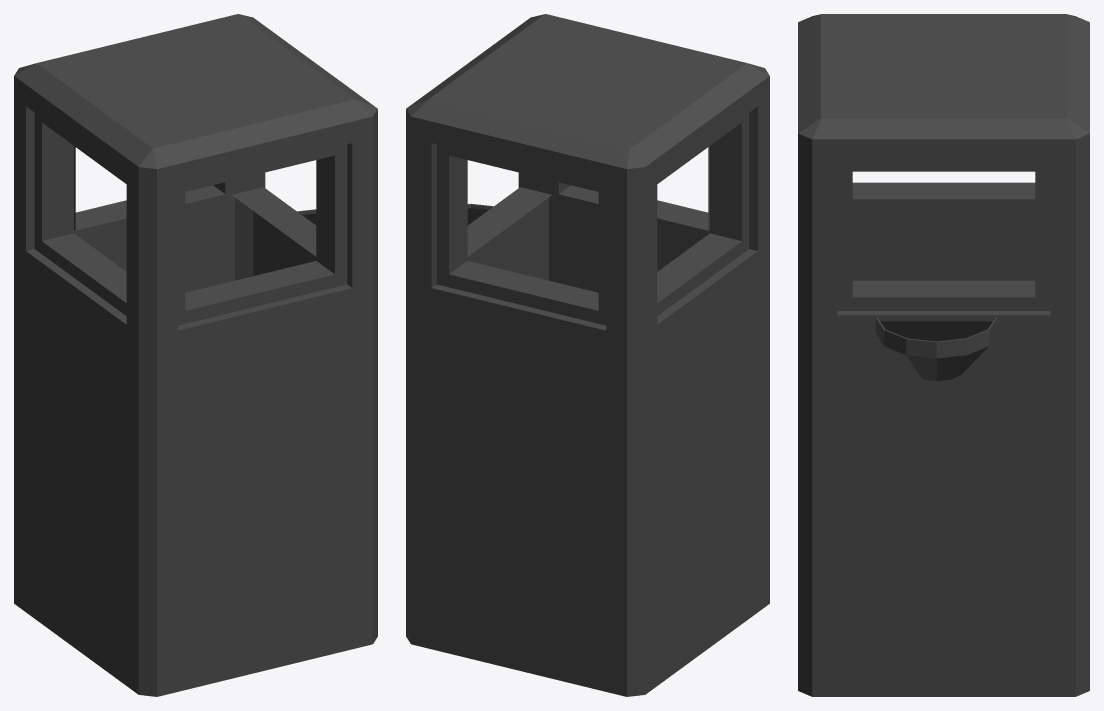
File: BoteBasura.fbx
3 views of the same model, side by side, from view 1: azimuth 30°, elevation 25°; view 2: azimuth 150°, elevation 25°; view 3: azimuth 270°, elevation 25° (orthographic). The views are drawn at different scales.
Visible parts, largest first — view 1: BOTTINO; view 2: BOTTINO; view 3: BOTTINO.
Part boxes in pixels (x1,y1,x2,y2): BOTTINO: (14, 14, 377, 696); BOTTINO: (406, 14, 769, 696); BOTTINO: (798, 14, 1089, 696).
Size of the model in its own units: 73.55 by 131 by 60.86.
1 material, 1 textured.
